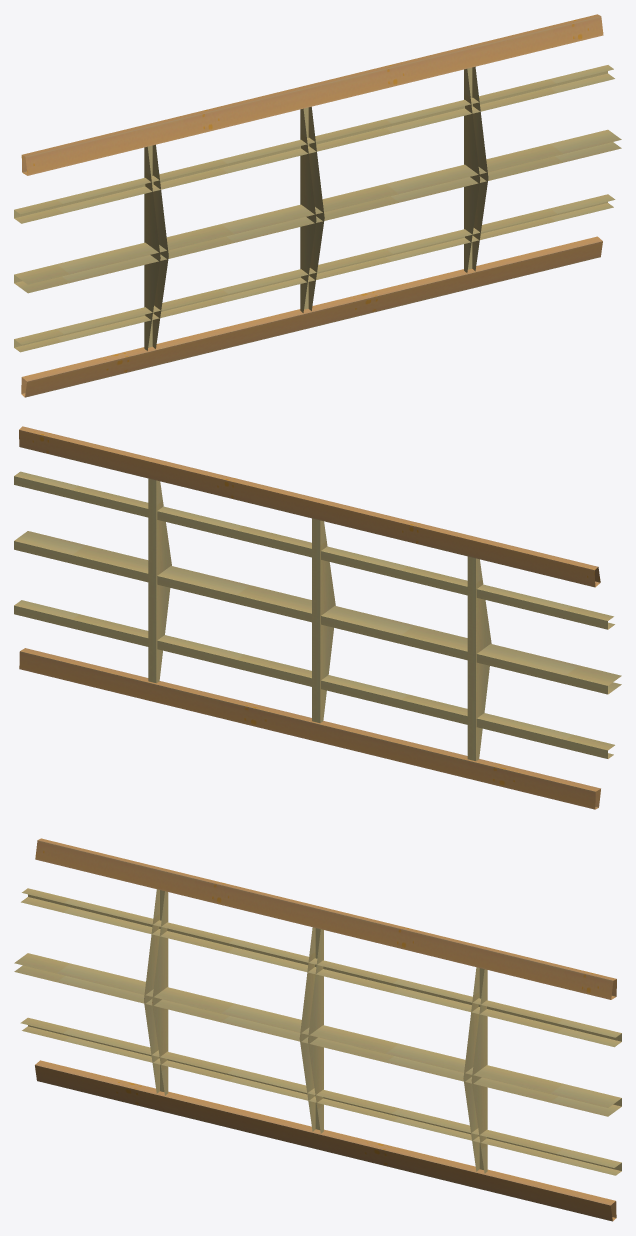
Rendered from top_house_d10bcda7__ZombiesII_depot_diffuse_03_573b45f4_c1f257.obj.
3 renders of one model, top to bottom at view 1: azimuth 30°, elevation 25°; view 2: azimuth 150°, elevation 25°; view 3: azimuth 330°, elevation 25°, orthographic.
Bounding box in the file's own units: 43.39 × 16.81 × 2.29.
1 material, 1 textured.
